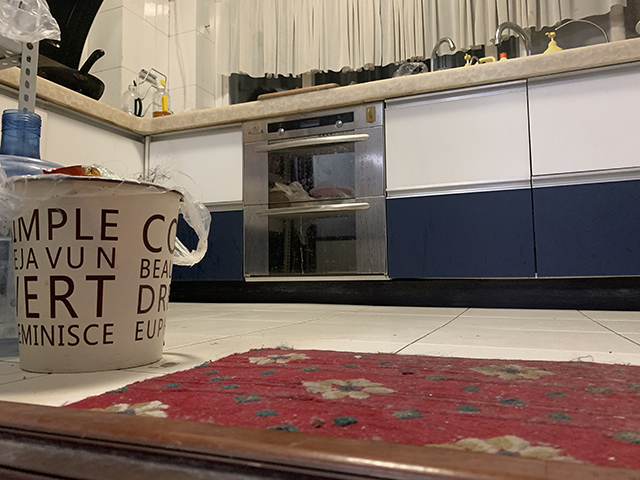cabinet: (187, 34, 640, 311)
carpet: (58, 344, 640, 470)
trashcan: (1, 174, 186, 375)
